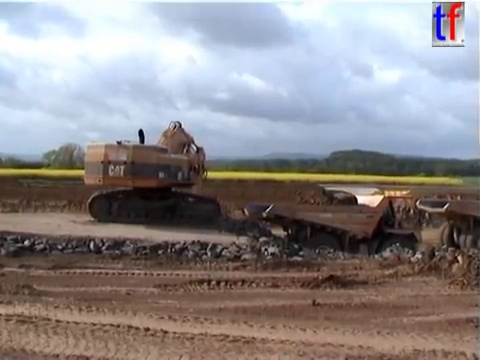excavator: (81, 118, 223, 227)
truck: (240, 187, 425, 276), (413, 196, 480, 261)
